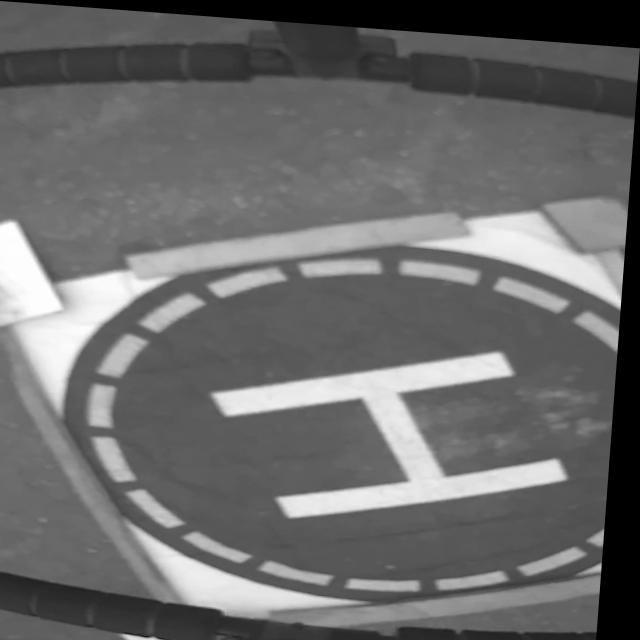Helipad: (216, 341, 576, 514)
